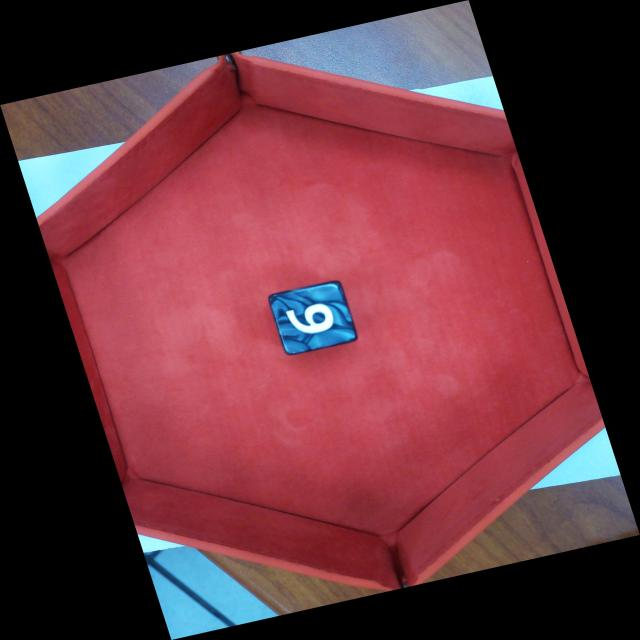dice: (267, 278, 359, 358)
